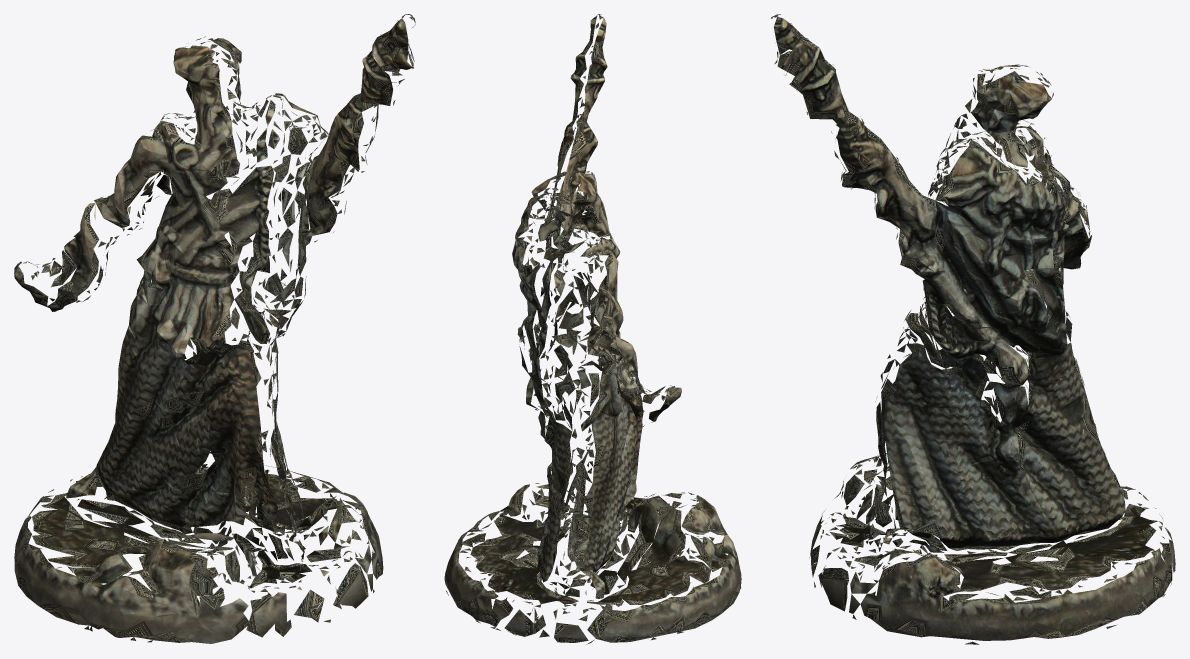
Rendered from maggot.glb.
The picture shows the model from 3 angles, left to right: view 1: azimuth 30°, elevation 25°; view 2: azimuth 150°, elevation 25°; view 3: azimuth 270°, elevation 25°; orthographic projection. The views are drawn at different scales.
Visible parts, largest first — view 1: geometry_0; view 2: geometry_0; view 3: geometry_0.
Boxes of the visible parts, x1,y1,x2,y2 form: geometry_0: (14,14,415,643); geometry_0: (444,14,741,644); geometry_0: (771,14,1175,644).
Bounding box in the file's own units: 0.0137 × 0.0248 × 0.0152.
1 material, 1 textured.
